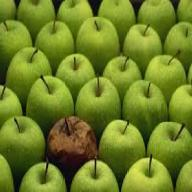apple: (49, 116, 95, 170), (1, 118, 46, 164)
